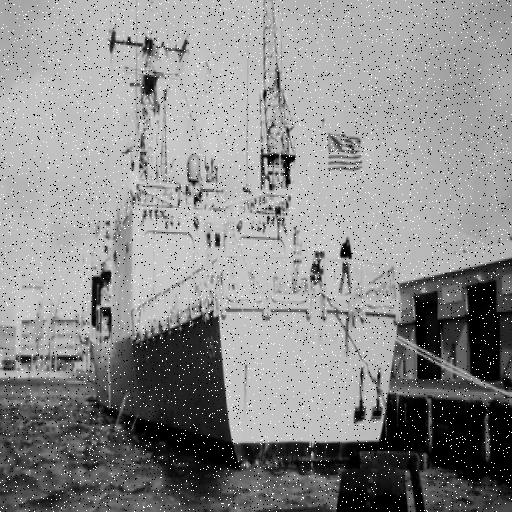Fragata: (81, 1, 411, 467)
